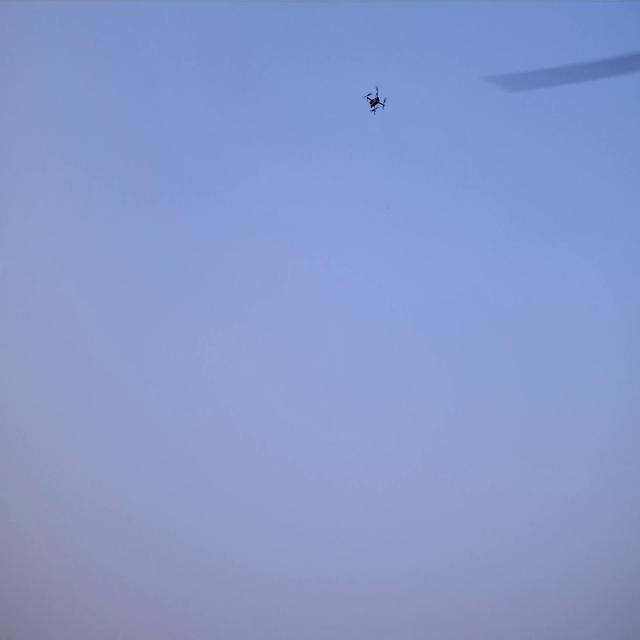UAV: (366, 89, 385, 114)
